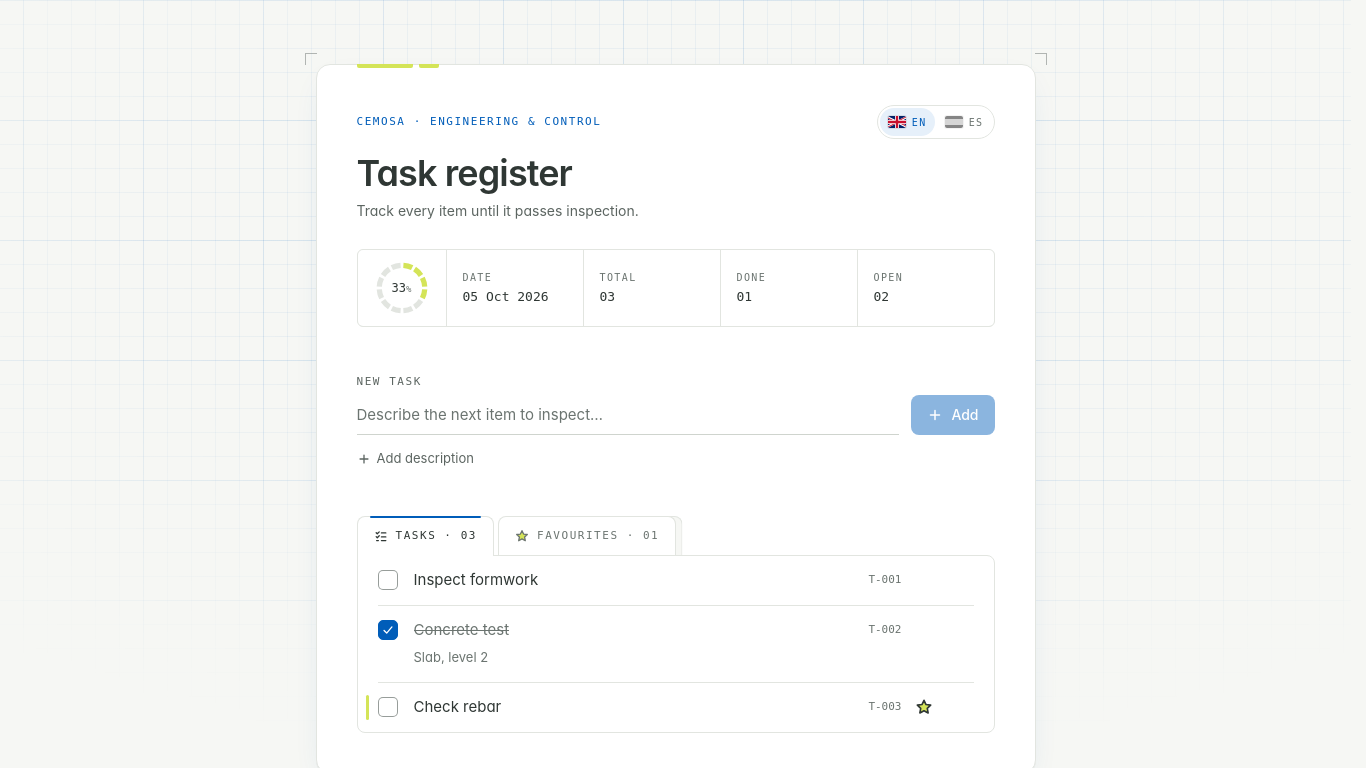
adding tasks › creates a task with a description and reloads the list (task 3 and 4)
Check: the text "Inspect formwork" is shown, box [414,570,538,589]
Type "Load test" into the field labelled "New task" at [628, 415], box [356,395,899,435]
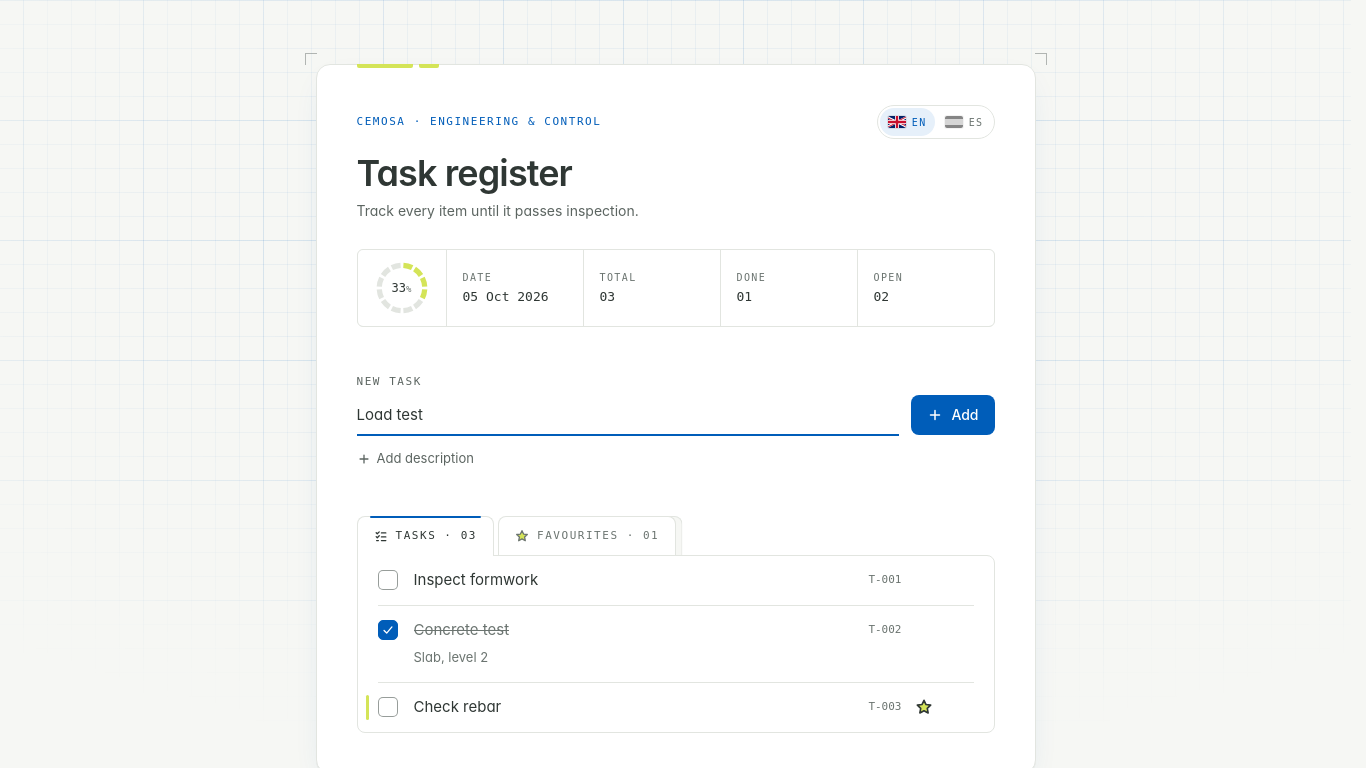
Click the button "Add description" at [415, 459], box [352,447,478,470]
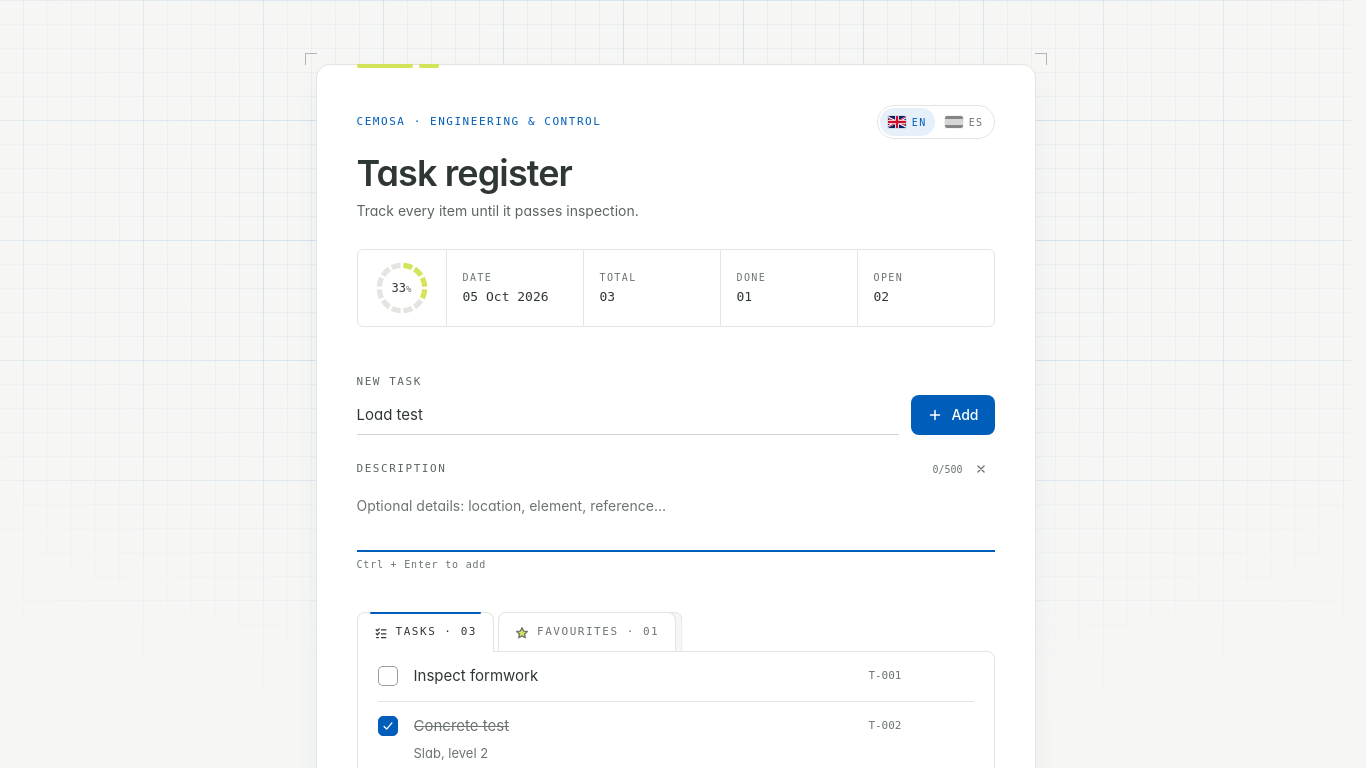
Type "Beam V-12" into the text box labelled "Description" at [676, 519], box [356,487,994,551]
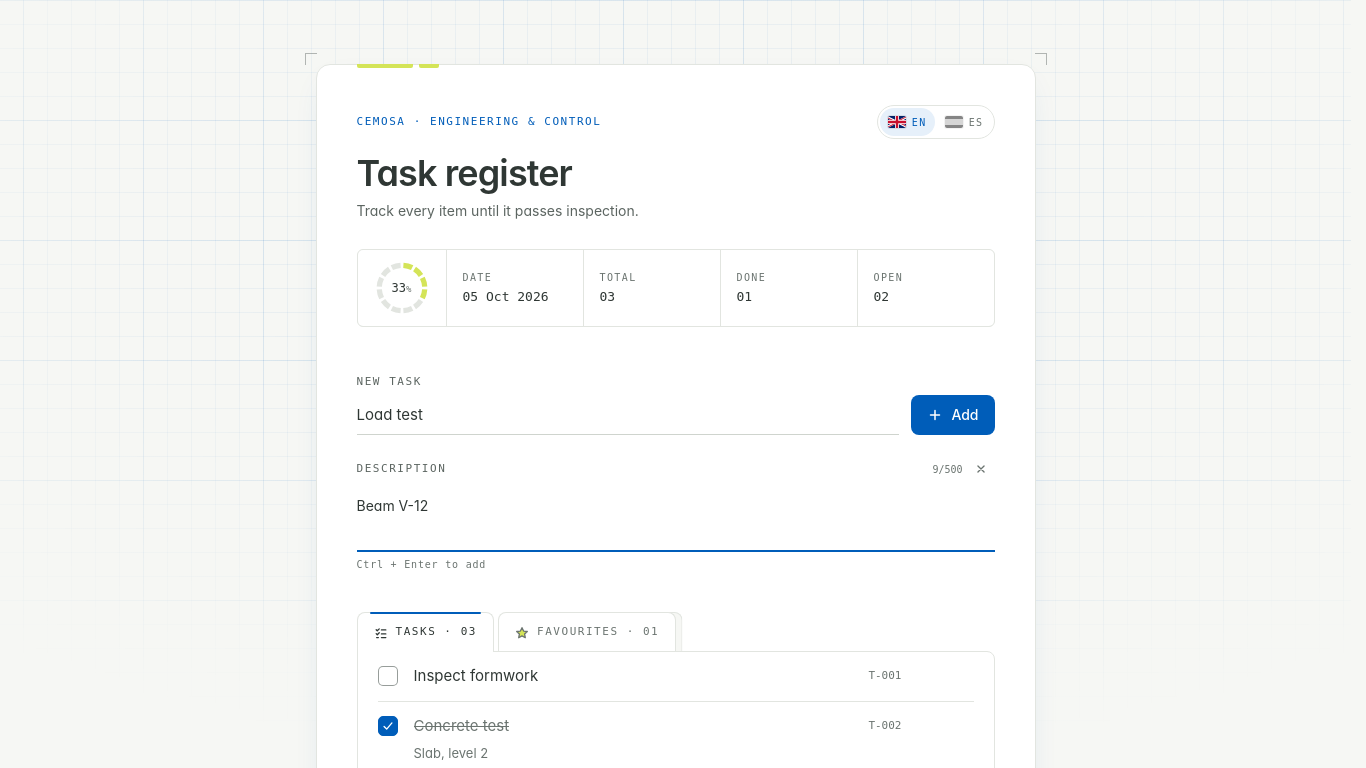
Click the button "Add" at [953, 415], box [911,395,994,435]
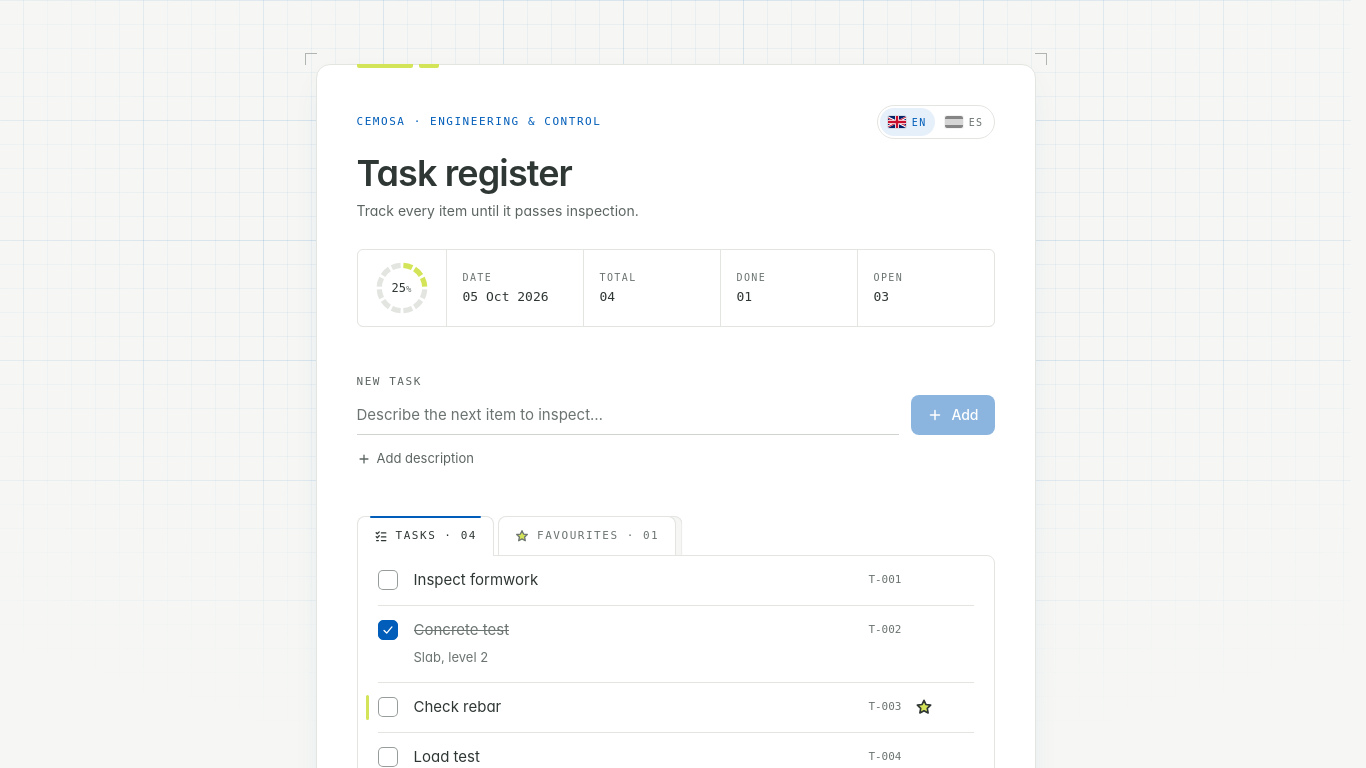
Check: the text "Load test" is shown, box [414,747,480,766]
Check: the field labelled "New task" is empty, box [356,395,899,435]
